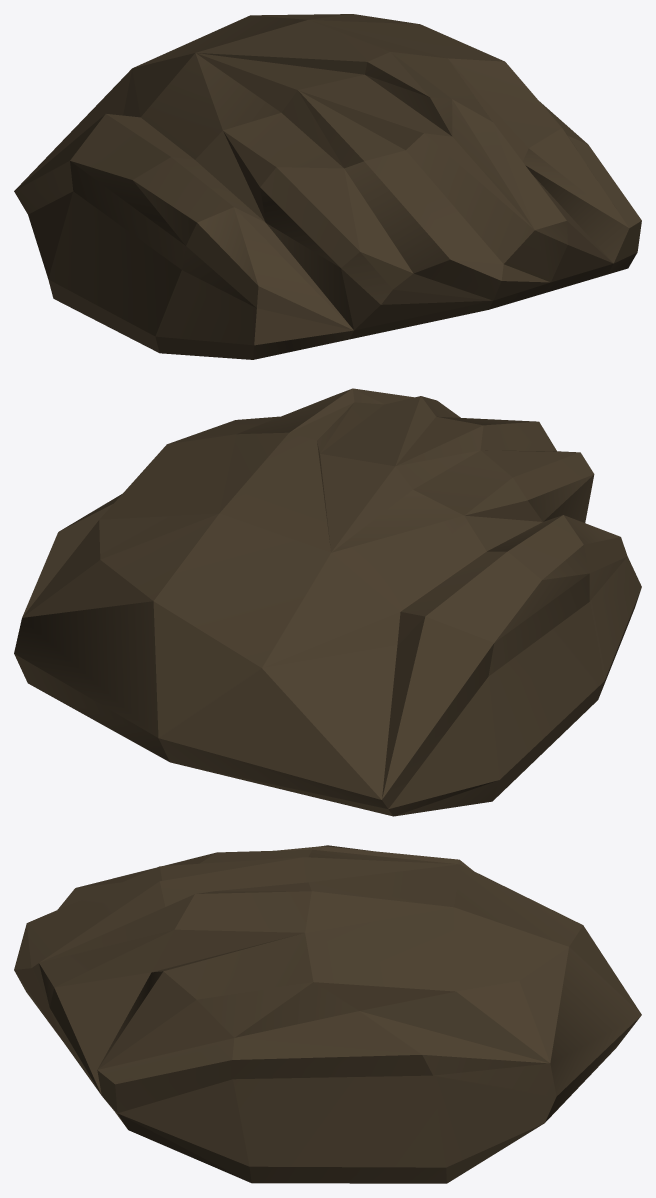
File: Hair_05_SM.FBX
3 renders of one model, top to bottom at view 1: azimuth 30°, elevation 25°; view 2: azimuth 150°, elevation 25°; view 3: azimuth 270°, elevation 25°, orthographic. The views are drawn at different scales.
Visible parts, largest first — view 1: Hair_05_SM; view 2: Hair_05_SM; view 3: Hair_05_SM.
Boxes of the visible parts, <box> form: Hair_05_SM: <box>14,14,641,359</box>; Hair_05_SM: <box>14,388,641,816</box>; Hair_05_SM: <box>14,845,641,1183</box>.
Size of what is drawn, in the model's own units: 18.49 by 23.47 by 9.24.
